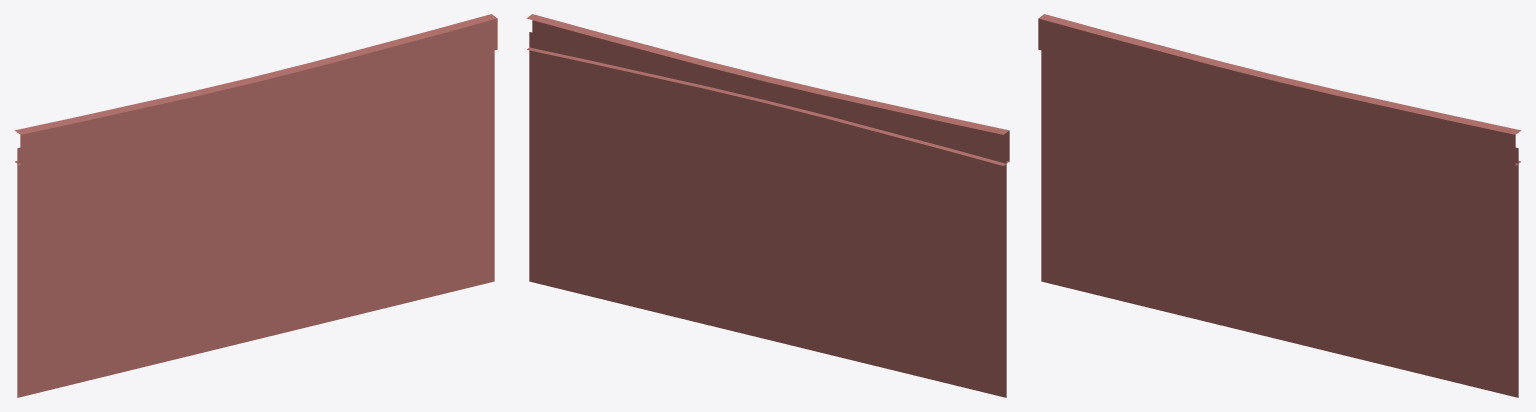
File: Extended_Wall_Empty.fbx
3 views of the same model, side by side, from view 1: azimuth 30°, elevation 25°; view 2: azimuth 150°, elevation 25°; view 3: azimuth 330°, elevation 25° (orthographic).
Visible parts, largest first — view 1: Extended_Wall_Empty; view 2: Extended_Wall_Empty; view 3: Extended_Wall_Empty.
Part boxes in pixels (x1=…): Extended_Wall_Empty: x1=14, y1=14, x2=497, y2=397; Extended_Wall_Empty: x1=526, y1=14, x2=1009, y2=397; Extended_Wall_Empty: x1=1038, y1=14, x2=1521, y2=397.
Bounding box in the file's own units: 8 × 4.25 × 0.1781.
